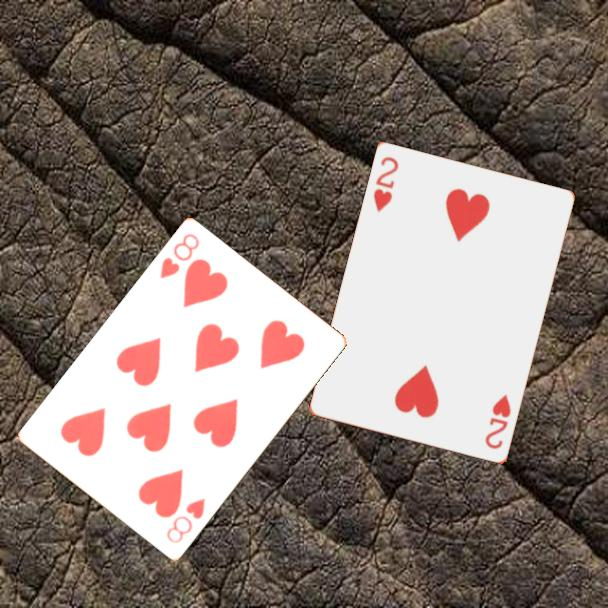h02: (370, 153, 402, 216), (482, 391, 514, 452)
h08: (156, 230, 202, 282), (163, 495, 208, 547)
